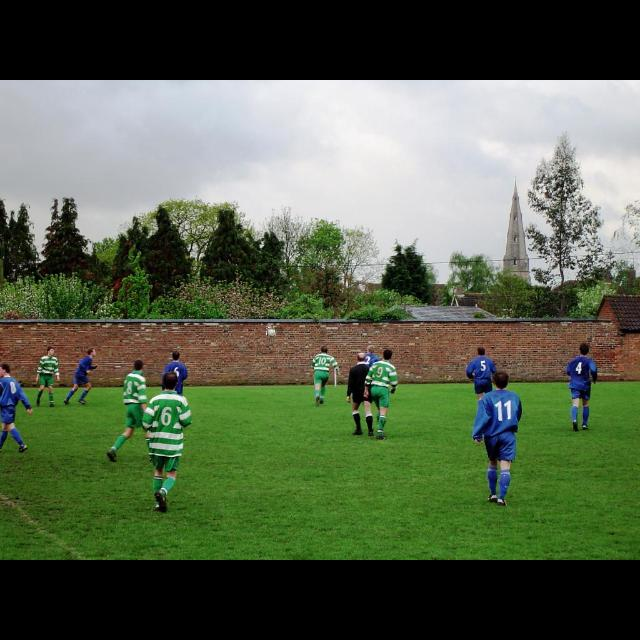Football: (267, 328, 275, 336)
